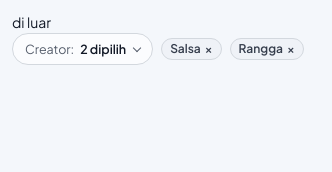
Test: MultiSelect, as the prototype's chip dropdown › staying open › goes back to the pick's name when chips are dropped down to one
Click the button with aria-label "Hapus filter Creator: Salsa" at [191, 49], box [161, 38, 222, 60]
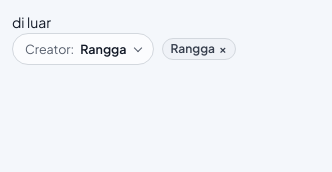
Expected: the button "Creator: Rangga" is shown, [12, 33, 154, 65]
